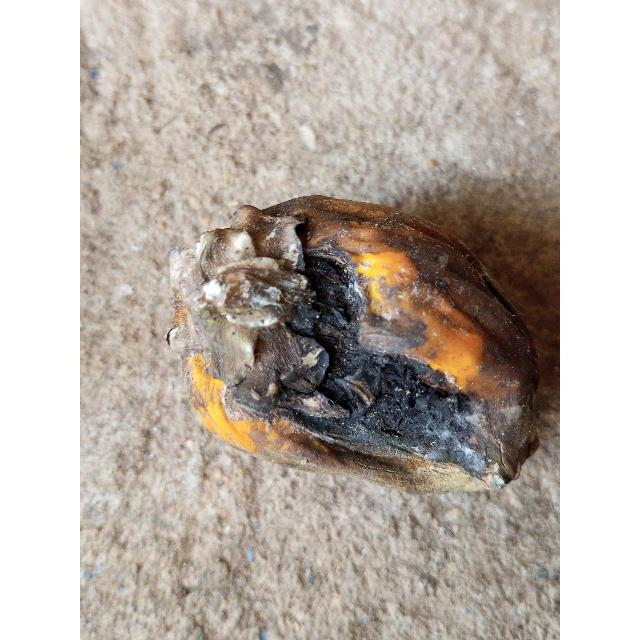damaged: (169, 195, 542, 496)
